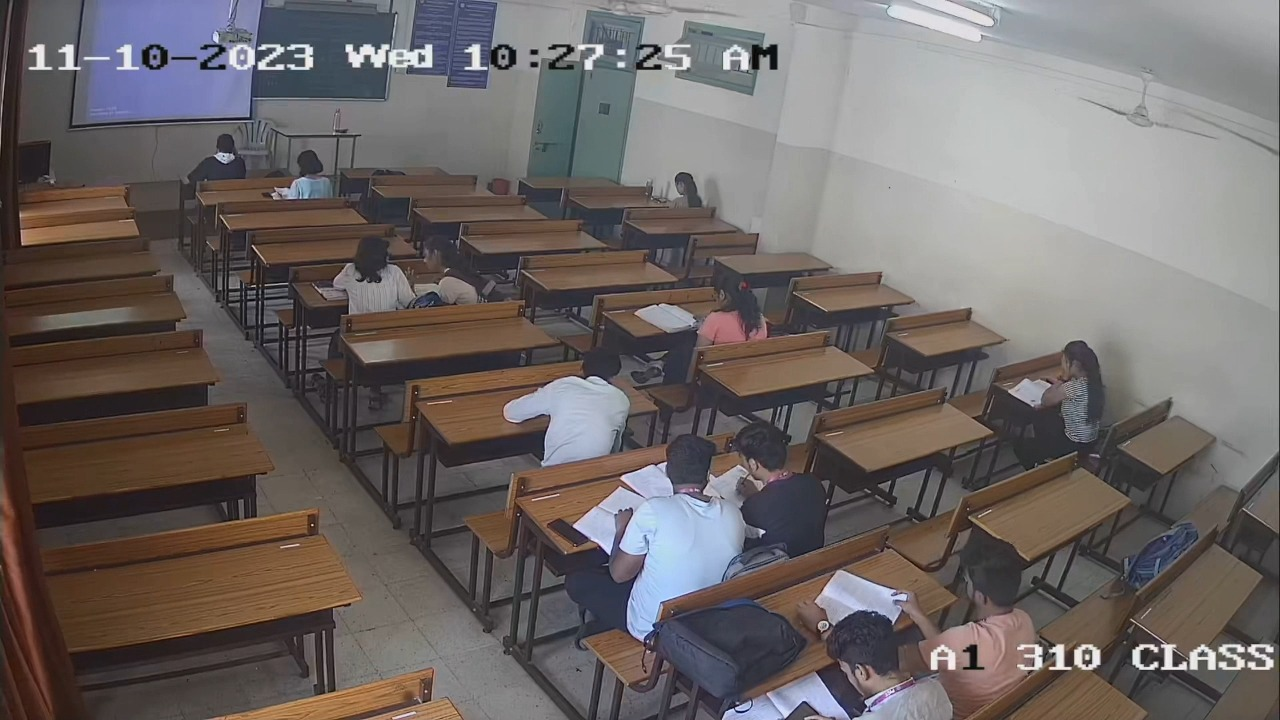cell-phones: (544, 515, 591, 547), (772, 699, 825, 720), (690, 310, 707, 325), (261, 189, 272, 201), (654, 196, 670, 204)
person: (601, 434, 743, 593), (800, 614, 954, 720), (685, 271, 767, 350), (287, 148, 336, 198), (671, 172, 704, 207)
